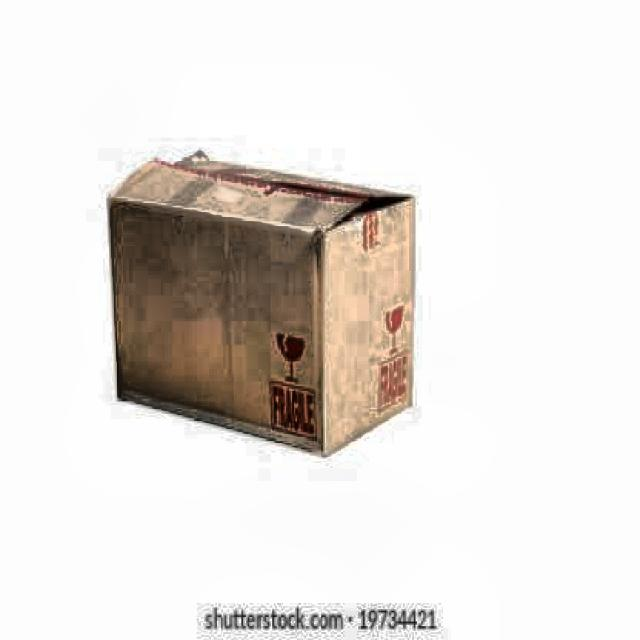Cardbox: (96, 128, 463, 478)
